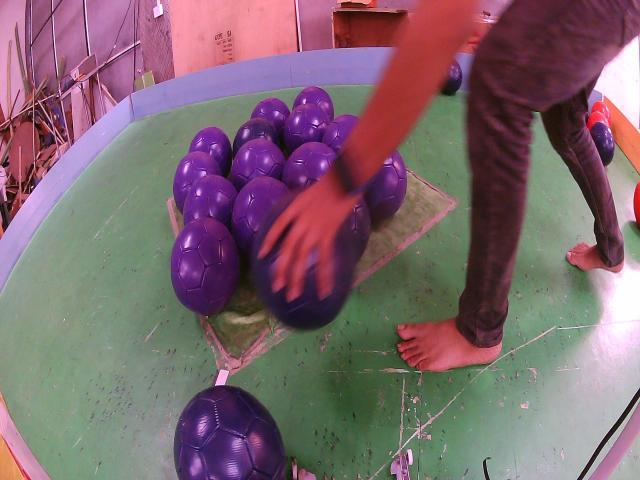jambhalya: (171, 217, 240, 316), (231, 177, 290, 252), (365, 150, 408, 221), (230, 138, 285, 192), (182, 175, 238, 228), (172, 152, 221, 212), (282, 142, 336, 192), (284, 103, 330, 153), (189, 127, 232, 177), (251, 97, 290, 142), (322, 115, 359, 155), (292, 87, 334, 122), (348, 198, 371, 261)
kaalyya: (250, 193, 358, 330), (174, 385, 286, 480), (232, 118, 279, 158), (590, 122, 615, 167), (441, 60, 462, 95)
